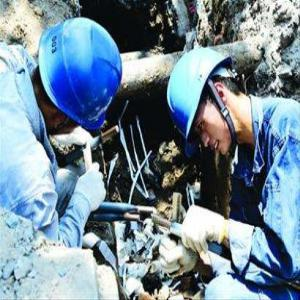blue: (33, 17, 126, 147), (164, 42, 245, 159)
